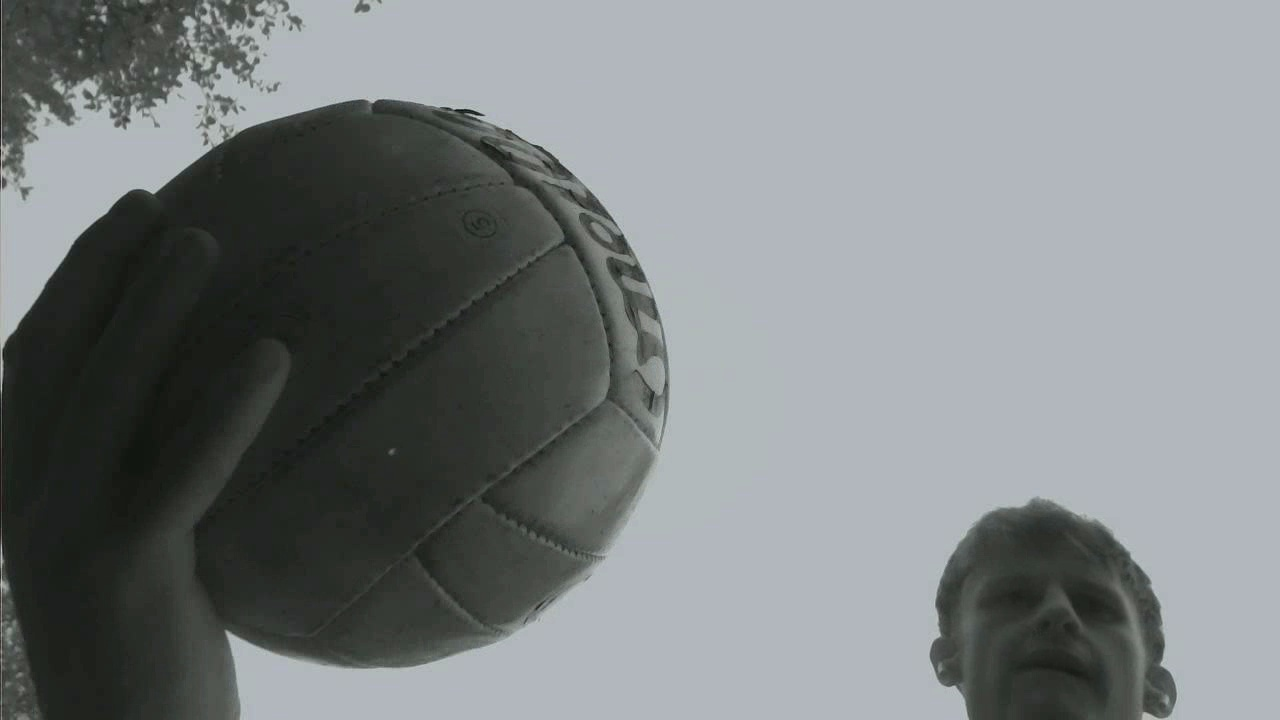Football-Spotter: (157, 101, 667, 667)
